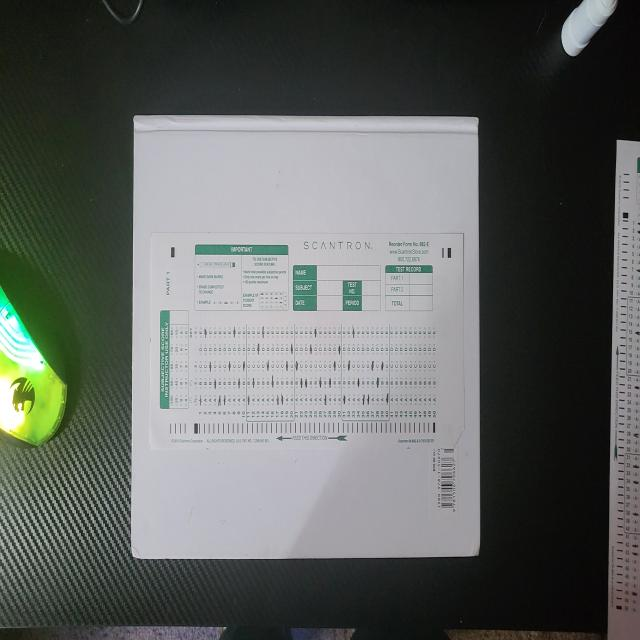scantron: (150, 231, 465, 450)
